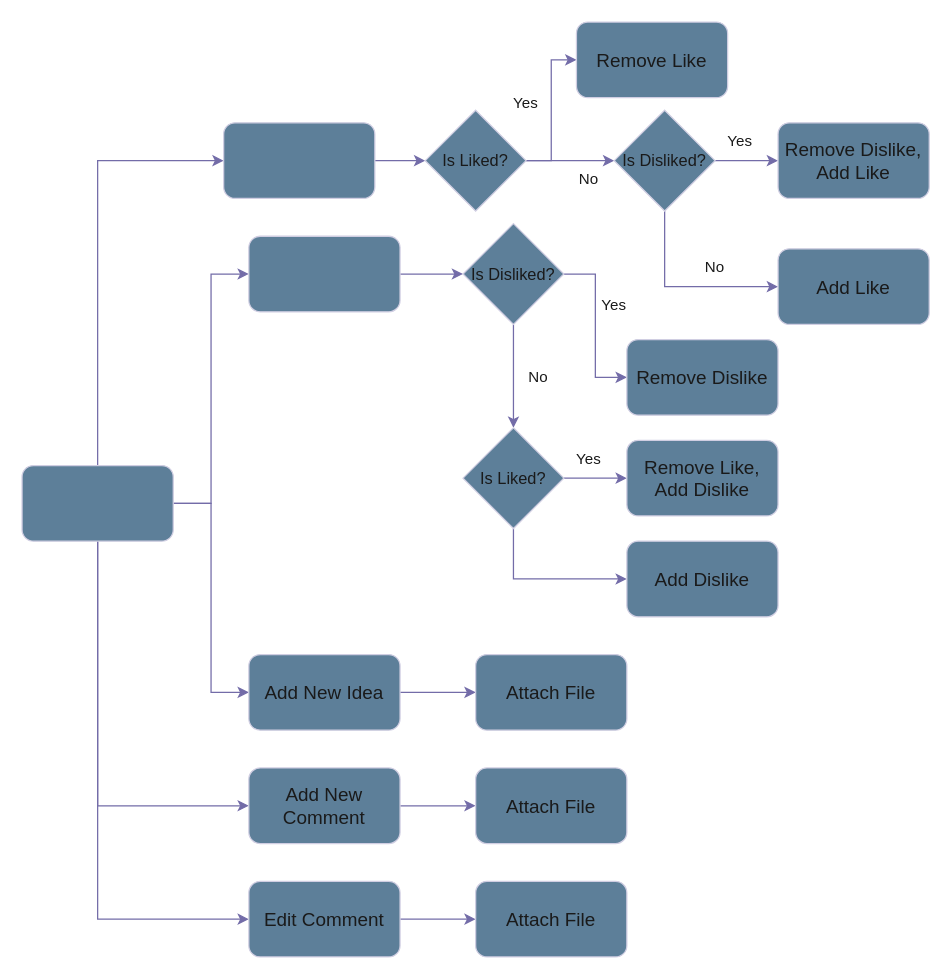
Some shapes in this 951 by 979 pixel diagram are drawn without their labels. The shapes that lost their labels are listed below. From the top down, each one's centre as x and y in pixels, then its label:
the point at 298,160: Like Button Pressed
the point at 324,273: Dislike Button Pressed
the point at 97,502: Ideas
